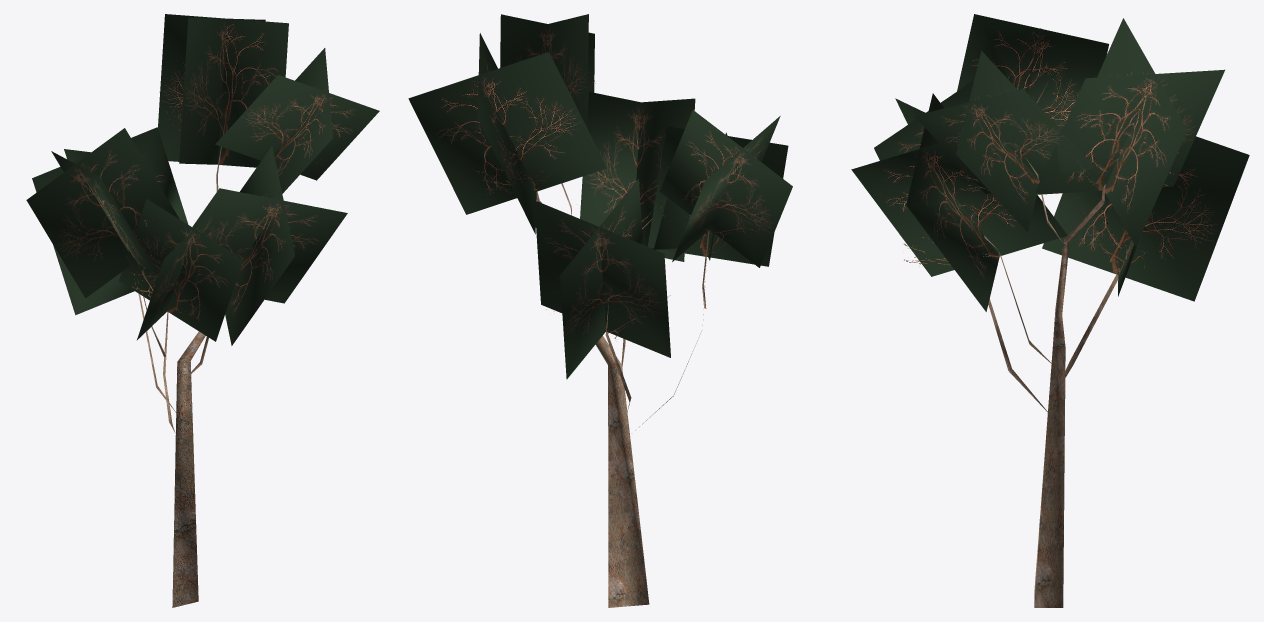
The model's file is decd_ginkgotreebranches_a2_l1.fbx.
3 renders of one model, left to right at view 1: azimuth 30°, elevation 25°; view 2: azimuth 150°, elevation 25°; view 3: azimuth 270°, elevation 25°, orthographic. The views are drawn at different scales.
Visible parts, largest first — view 1: mesh_node; view 2: mesh_node; view 3: mesh_node.
Boxes of the visible parts, x1,y1,x2,y2 form: mesh_node: (26, 14, 379, 607); mesh_node: (408, 14, 792, 607); mesh_node: (851, 14, 1249, 607).
Size of the model in its own units: 1.95 by 3.1 by 1.85.
Materials: 3 (3 with a texture image).
